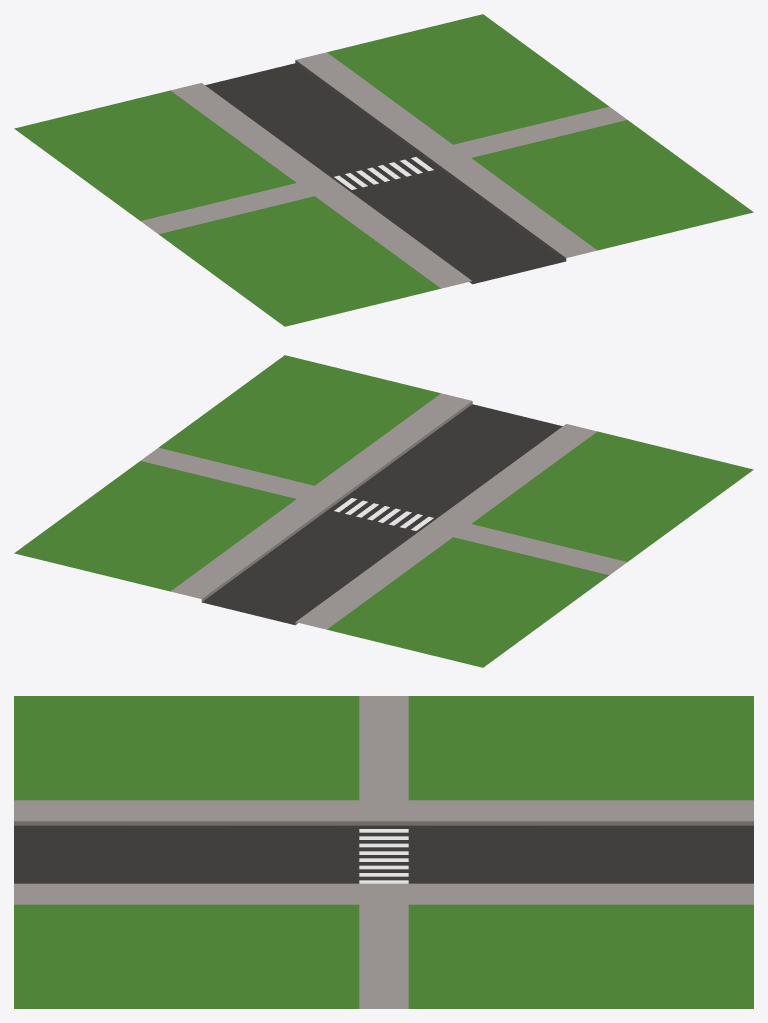
File: tiles-nb_tile-road-straight-crosswalk-nb.fbx
3 views of the same model, one above another, from view 1: azimuth 30°, elevation 25°; view 2: azimuth 150°, elevation 25°; view 3: azimuth 270°, elevation 25° (orthographic). The views are drawn at different scales.
Visible parts, largest first — view 1: tiles_nb_tile_road_straight_crosswalk_nb; view 2: tiles_nb_tile_road_straight_crosswalk_nb; view 3: tiles_nb_tile_road_straight_crosswalk_nb.
Part boxes in pixels (x1,y1,x2,y2): tiles_nb_tile_road_straight_crosswalk_nb: (14,14,753,326); tiles_nb_tile_road_straight_crosswalk_nb: (14,355,753,667); tiles_nb_tile_road_straight_crosswalk_nb: (14,696,753,1008).
Bounding box in the file's own units: 200 × 1.33 × 200.
